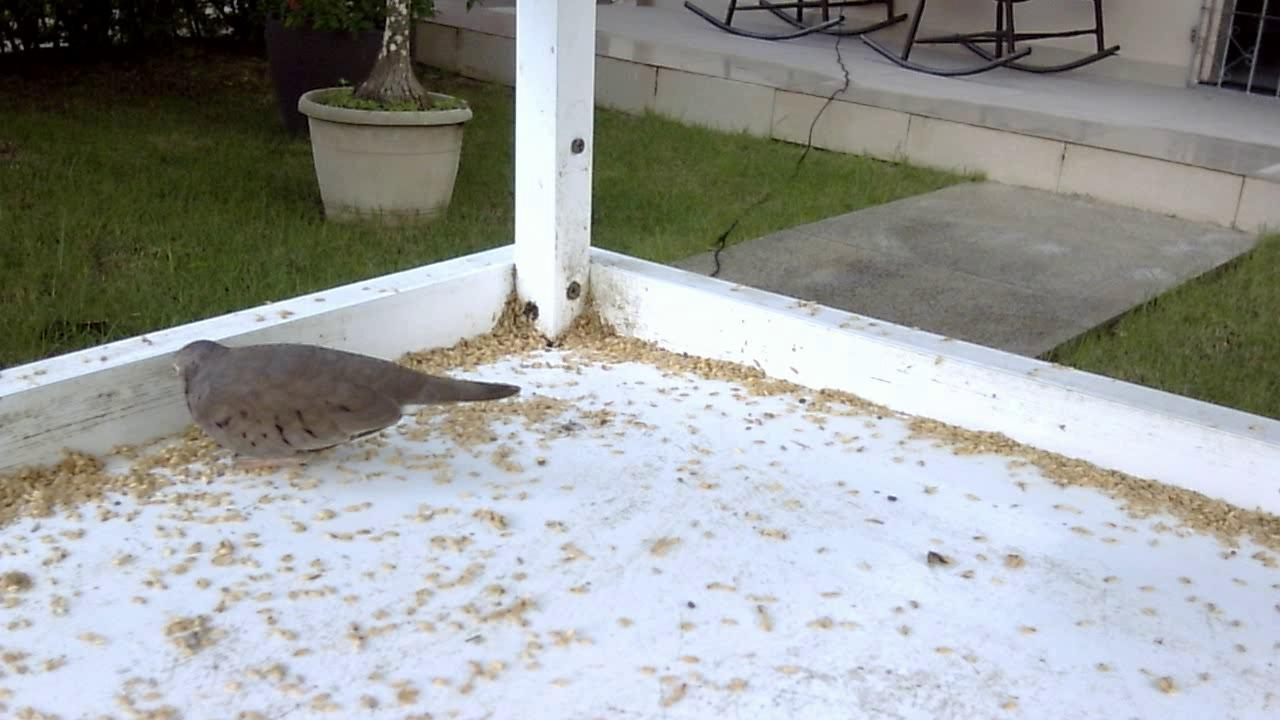rolinha: (156, 330, 528, 475)
